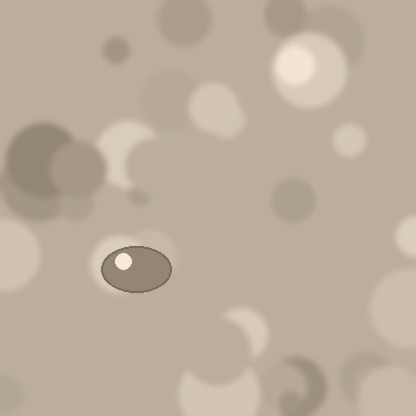gota: (101, 248, 171, 296)
